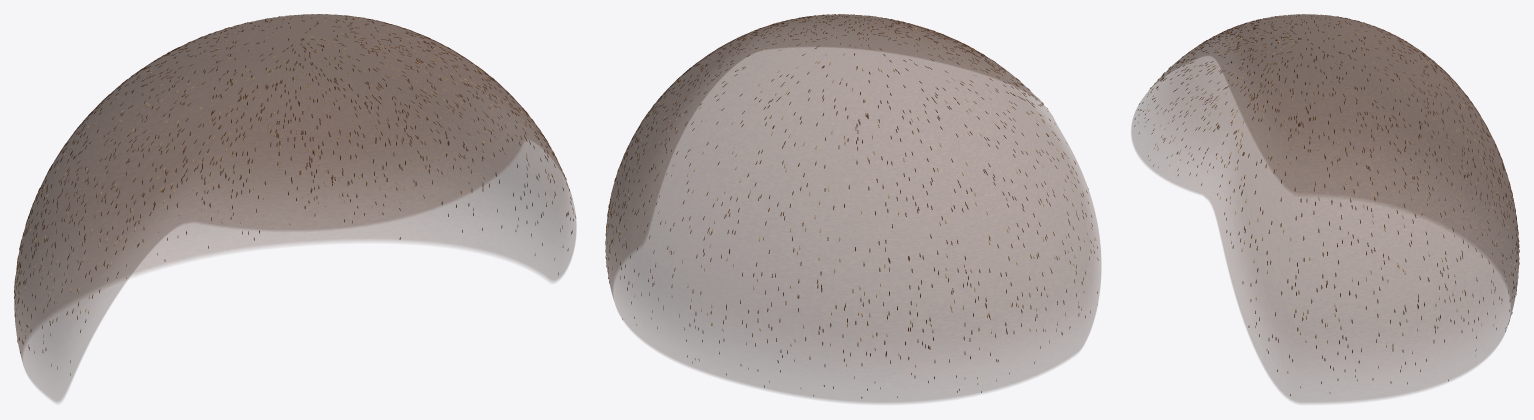
The model's file is Highlights-1f3b8c5966af251-hair.glb.
The picture shows the model from 3 angles, left to right: view 1: azimuth 30°, elevation 25°; view 2: azimuth 150°, elevation 25°; view 3: azimuth 270°, elevation 25°; orthographic projection. The views are drawn at different scales.
Parts seen in each view (by area): view 1: 226 hair / Hair / clipped grain251.001, 226 hair / Hair / close cut strokes251.001; view 2: 226 hair / Hair / clipped grain251.001, 226 hair / Hair / close cut strokes251.001; view 3: 226 hair / Hair / clipped grain251.001, 226 hair / Hair / close cut strokes251.001.
Boxes of the visible parts, box(x1,y1,x2,y2) form: 226 hair / Hair / clipped grain251.001: box(14, 14, 576, 402); 226 hair / Hair / close cut strokes251.001: box(14, 14, 575, 375); 226 hair / Hair / clipped grain251.001: box(605, 14, 1100, 403); 226 hair / Hair / close cut strokes251.001: box(605, 14, 1098, 398); 226 hair / Hair / clipped grain251.001: box(1131, 14, 1518, 403); 226 hair / Hair / close cut strokes251.001: box(1134, 14, 1519, 395).
Bounding box in the file's own units: 0.9711 × 0.5752 × 0.7467.
2 materials, 1 textured.
